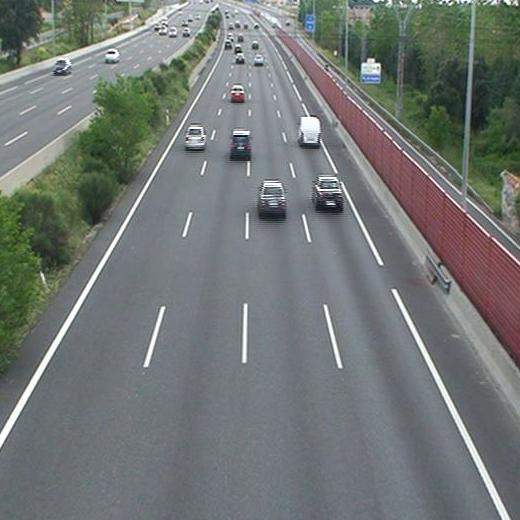car: (313, 177, 343, 208), (258, 182, 287, 213), (231, 130, 251, 157), (186, 127, 206, 148), (230, 85, 246, 101), (253, 55, 263, 65), (235, 53, 244, 63)
van: (299, 118, 321, 145)
